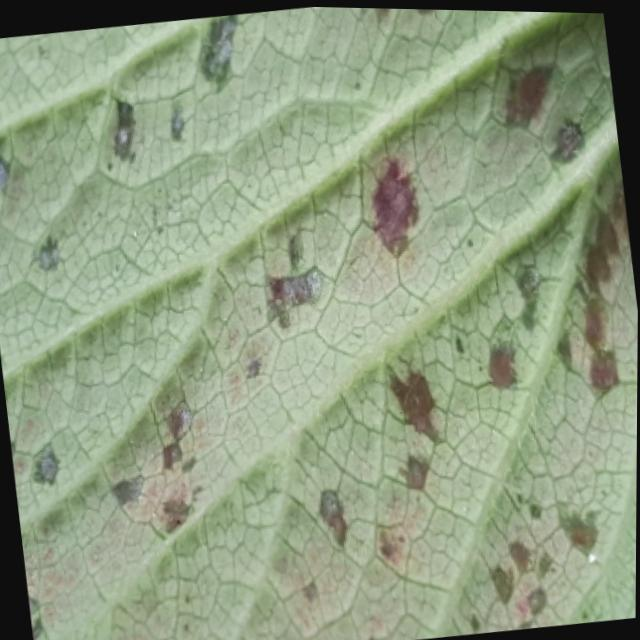Angular Leafspot: (0, 5, 638, 640)
